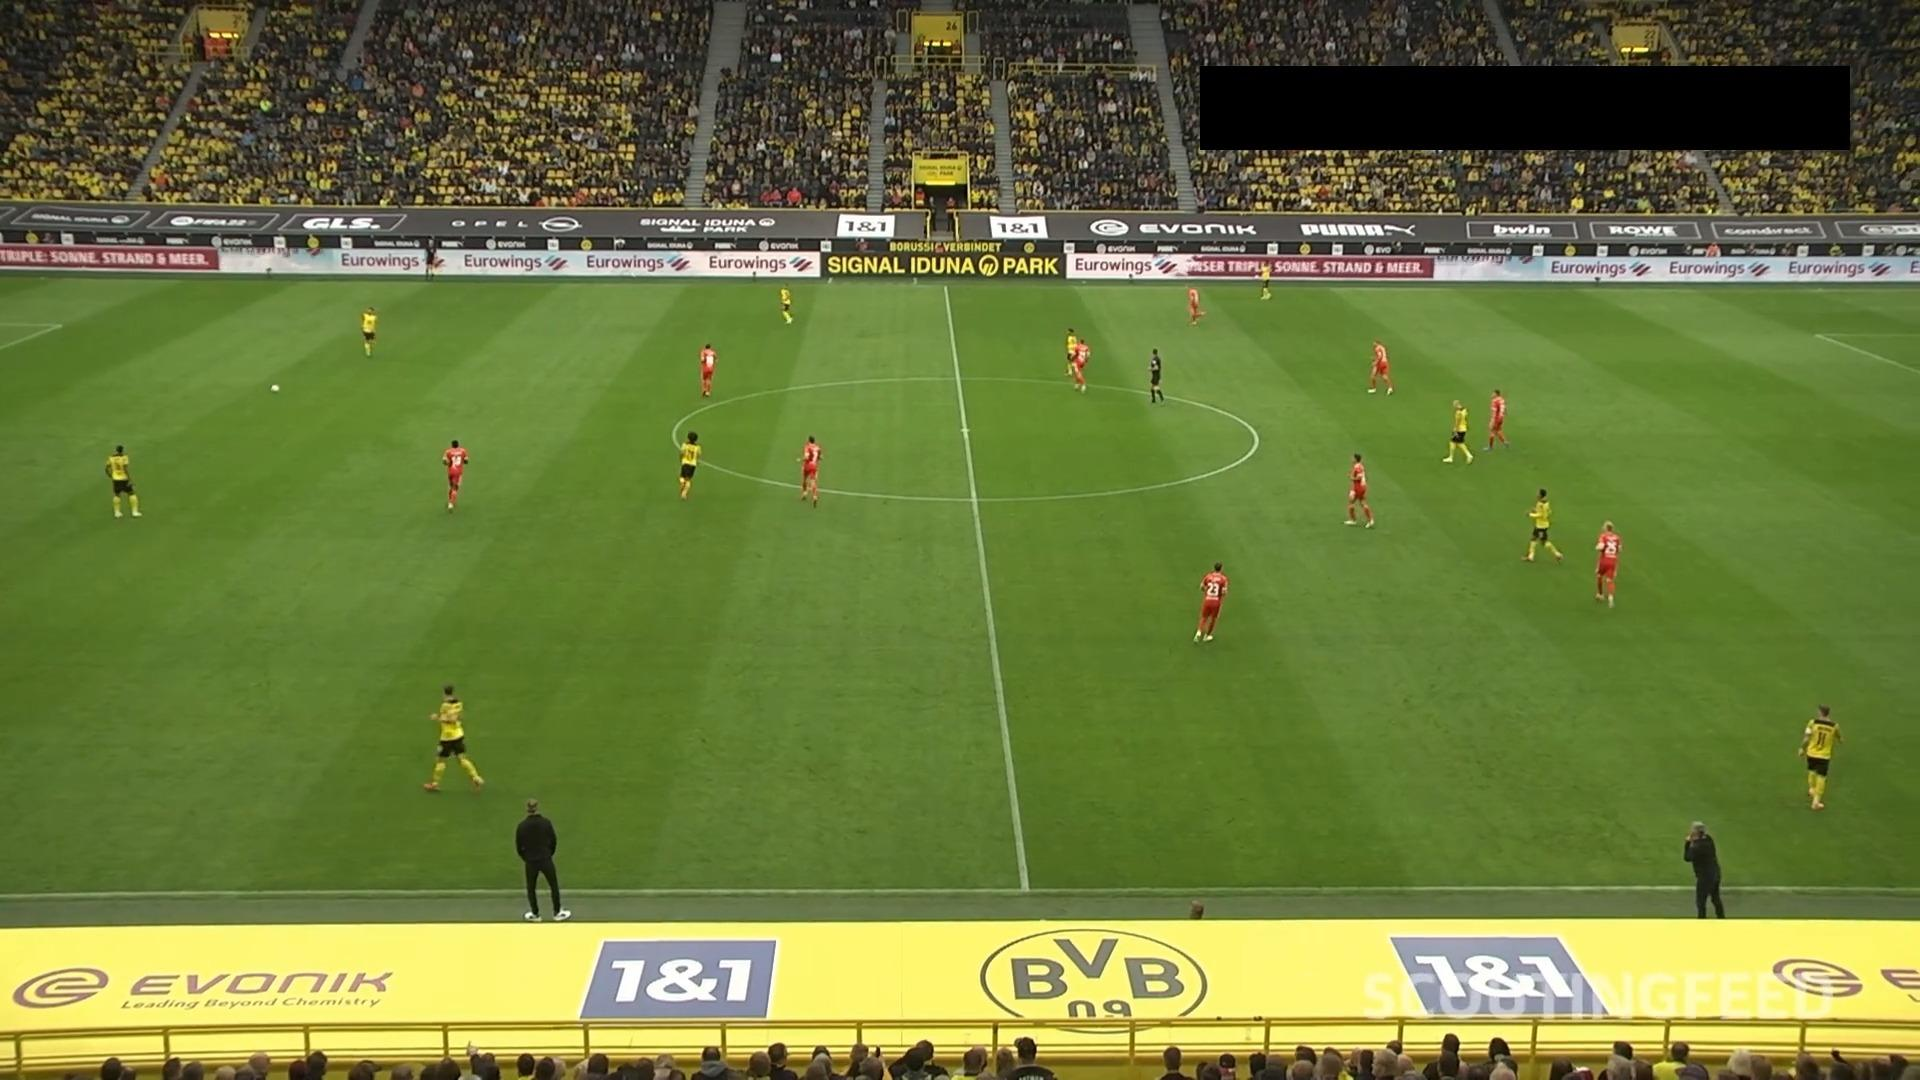ball: (269, 382, 281, 394)
